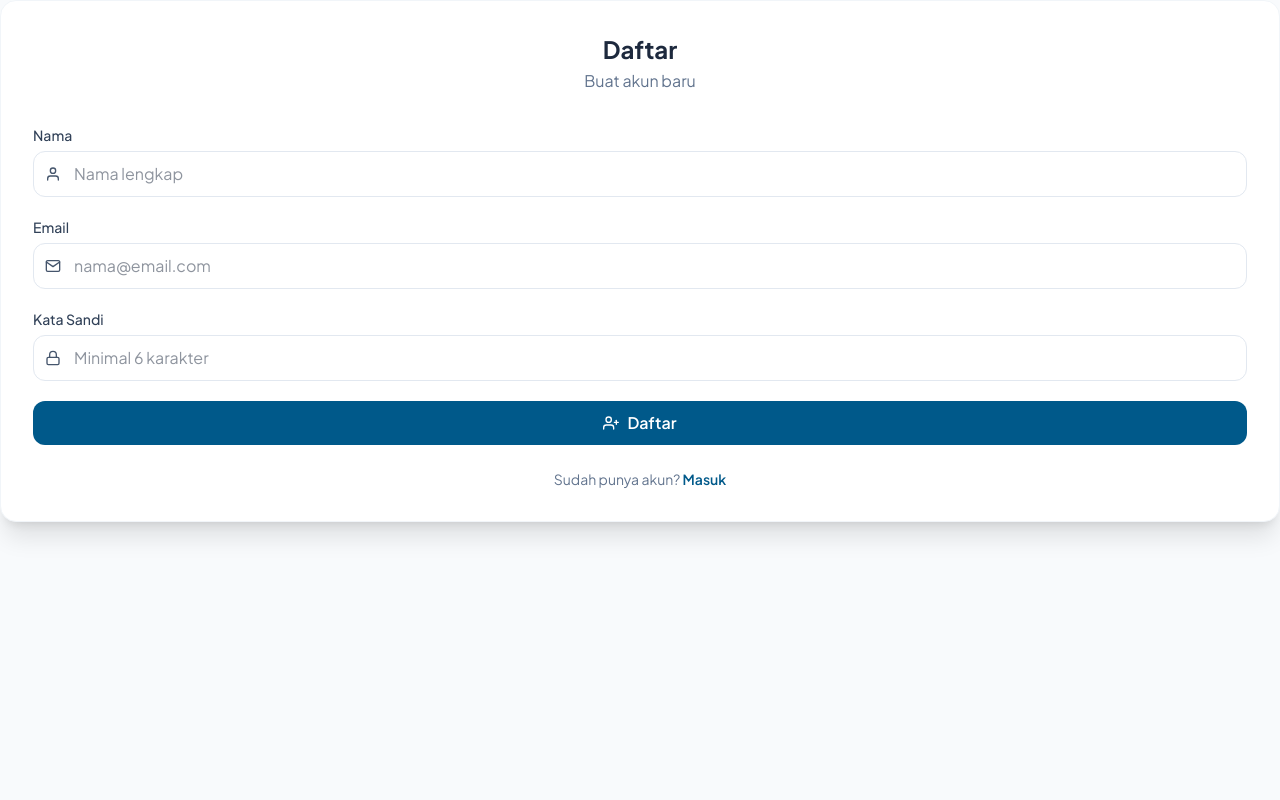
RegisterPage interaksi › menolak kata sandi yang kurang dari 6 karakter
The image size is (1280, 800).
Type "Panji" into the field labelled "Nama". click: coordinates (640, 174)
box: [33,151,1247,197]
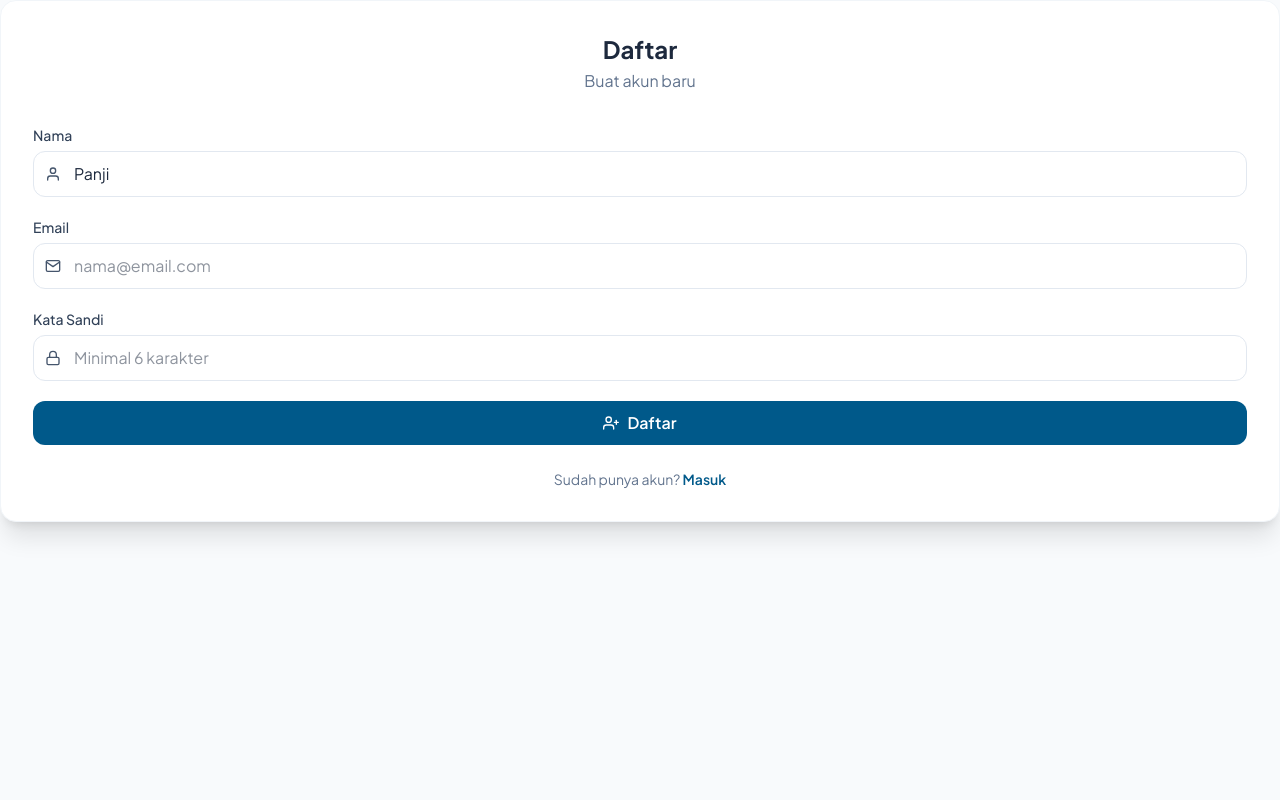
Type "panji@mail.com" into the field labelled "Email". click: coordinates (640, 266)
box: [33,243,1247,289]
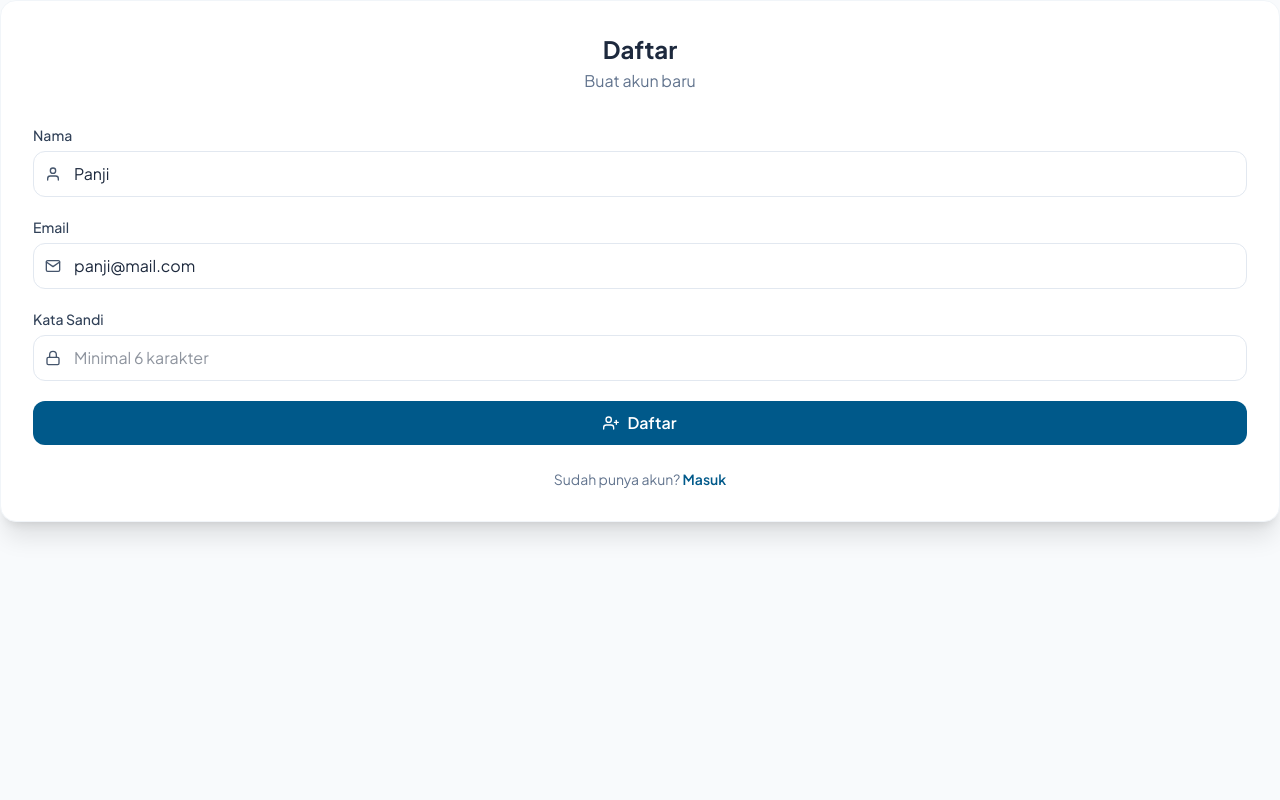
Type "12345" into the password field labelled "Kata Sandi". click: coordinates (640, 358)
box: [33,335,1247,381]
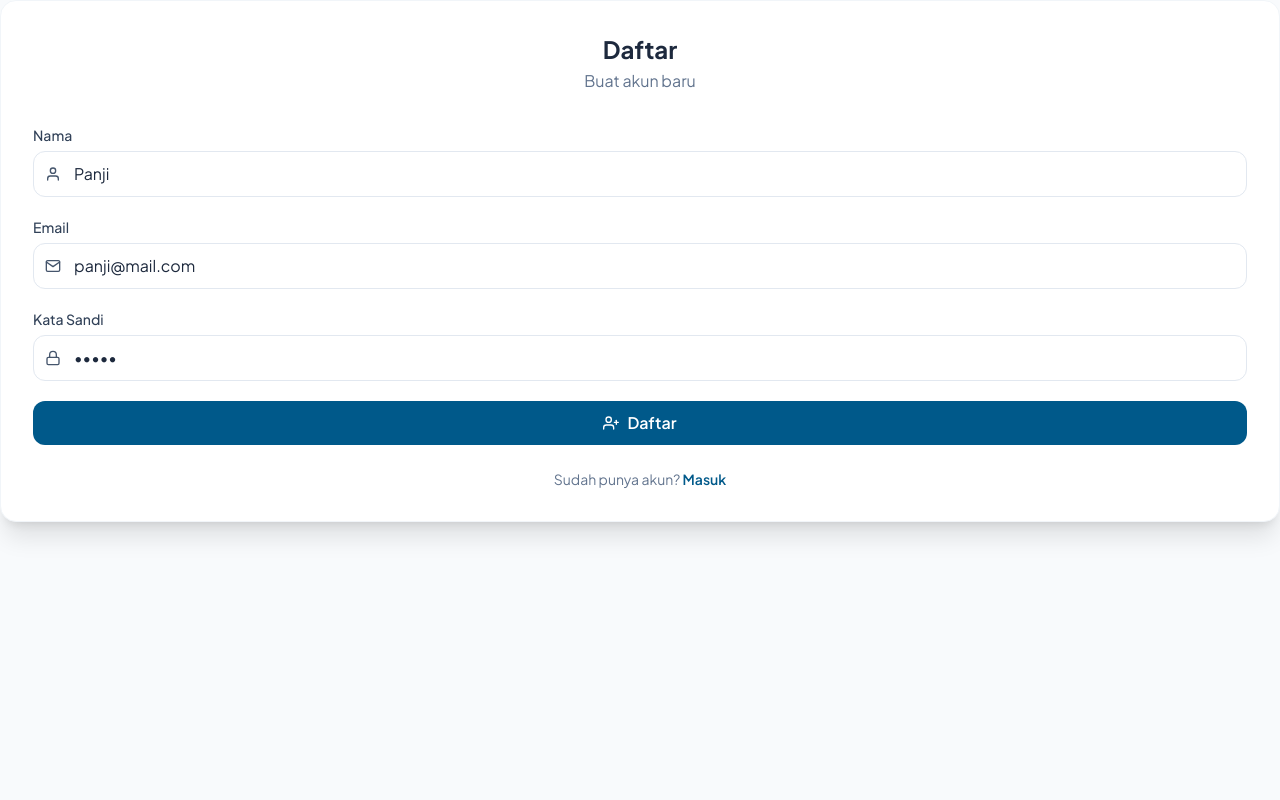
Submit the form, box [33,125,1247,445]
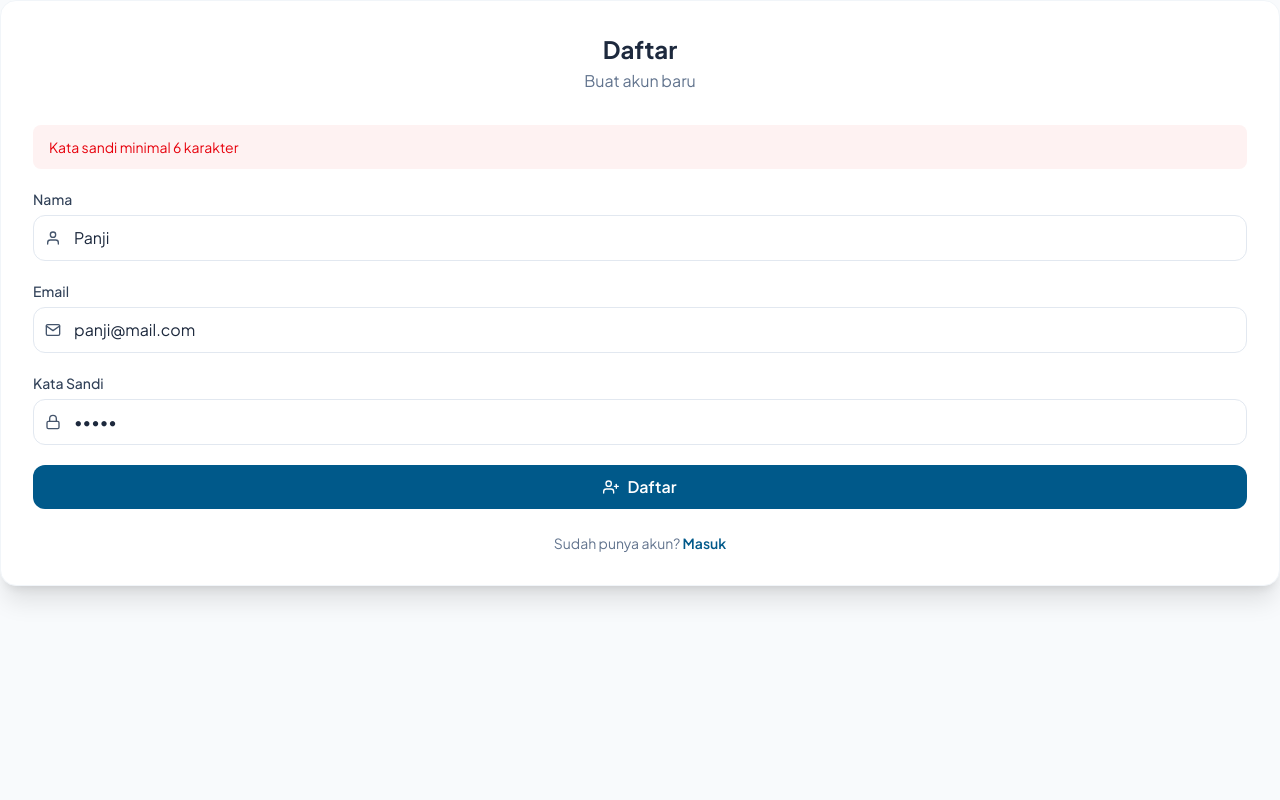
Result: the text "Kata sandi minimal 6 karakter" is shown at [33,125,1247,169]
